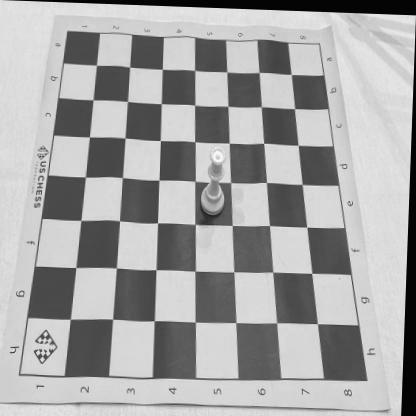white-queen: (202, 144, 229, 216)
